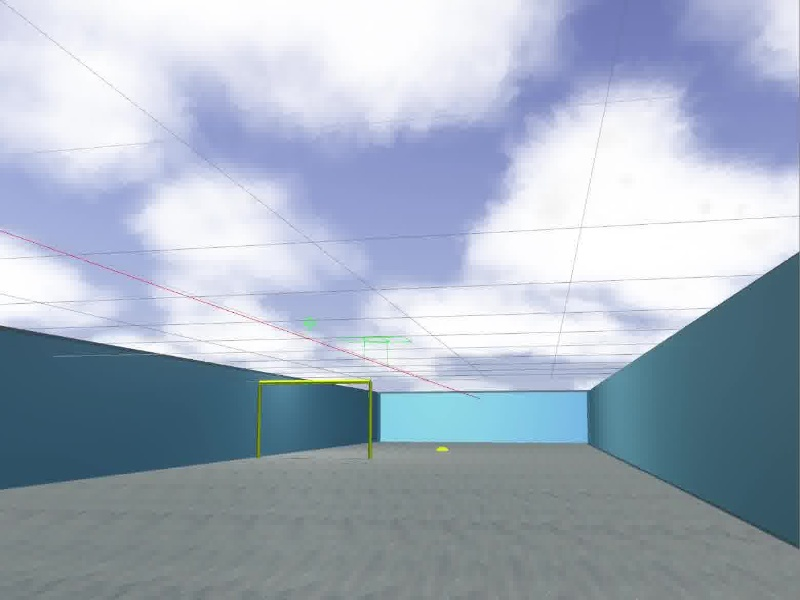gate: (255, 377, 374, 462)
